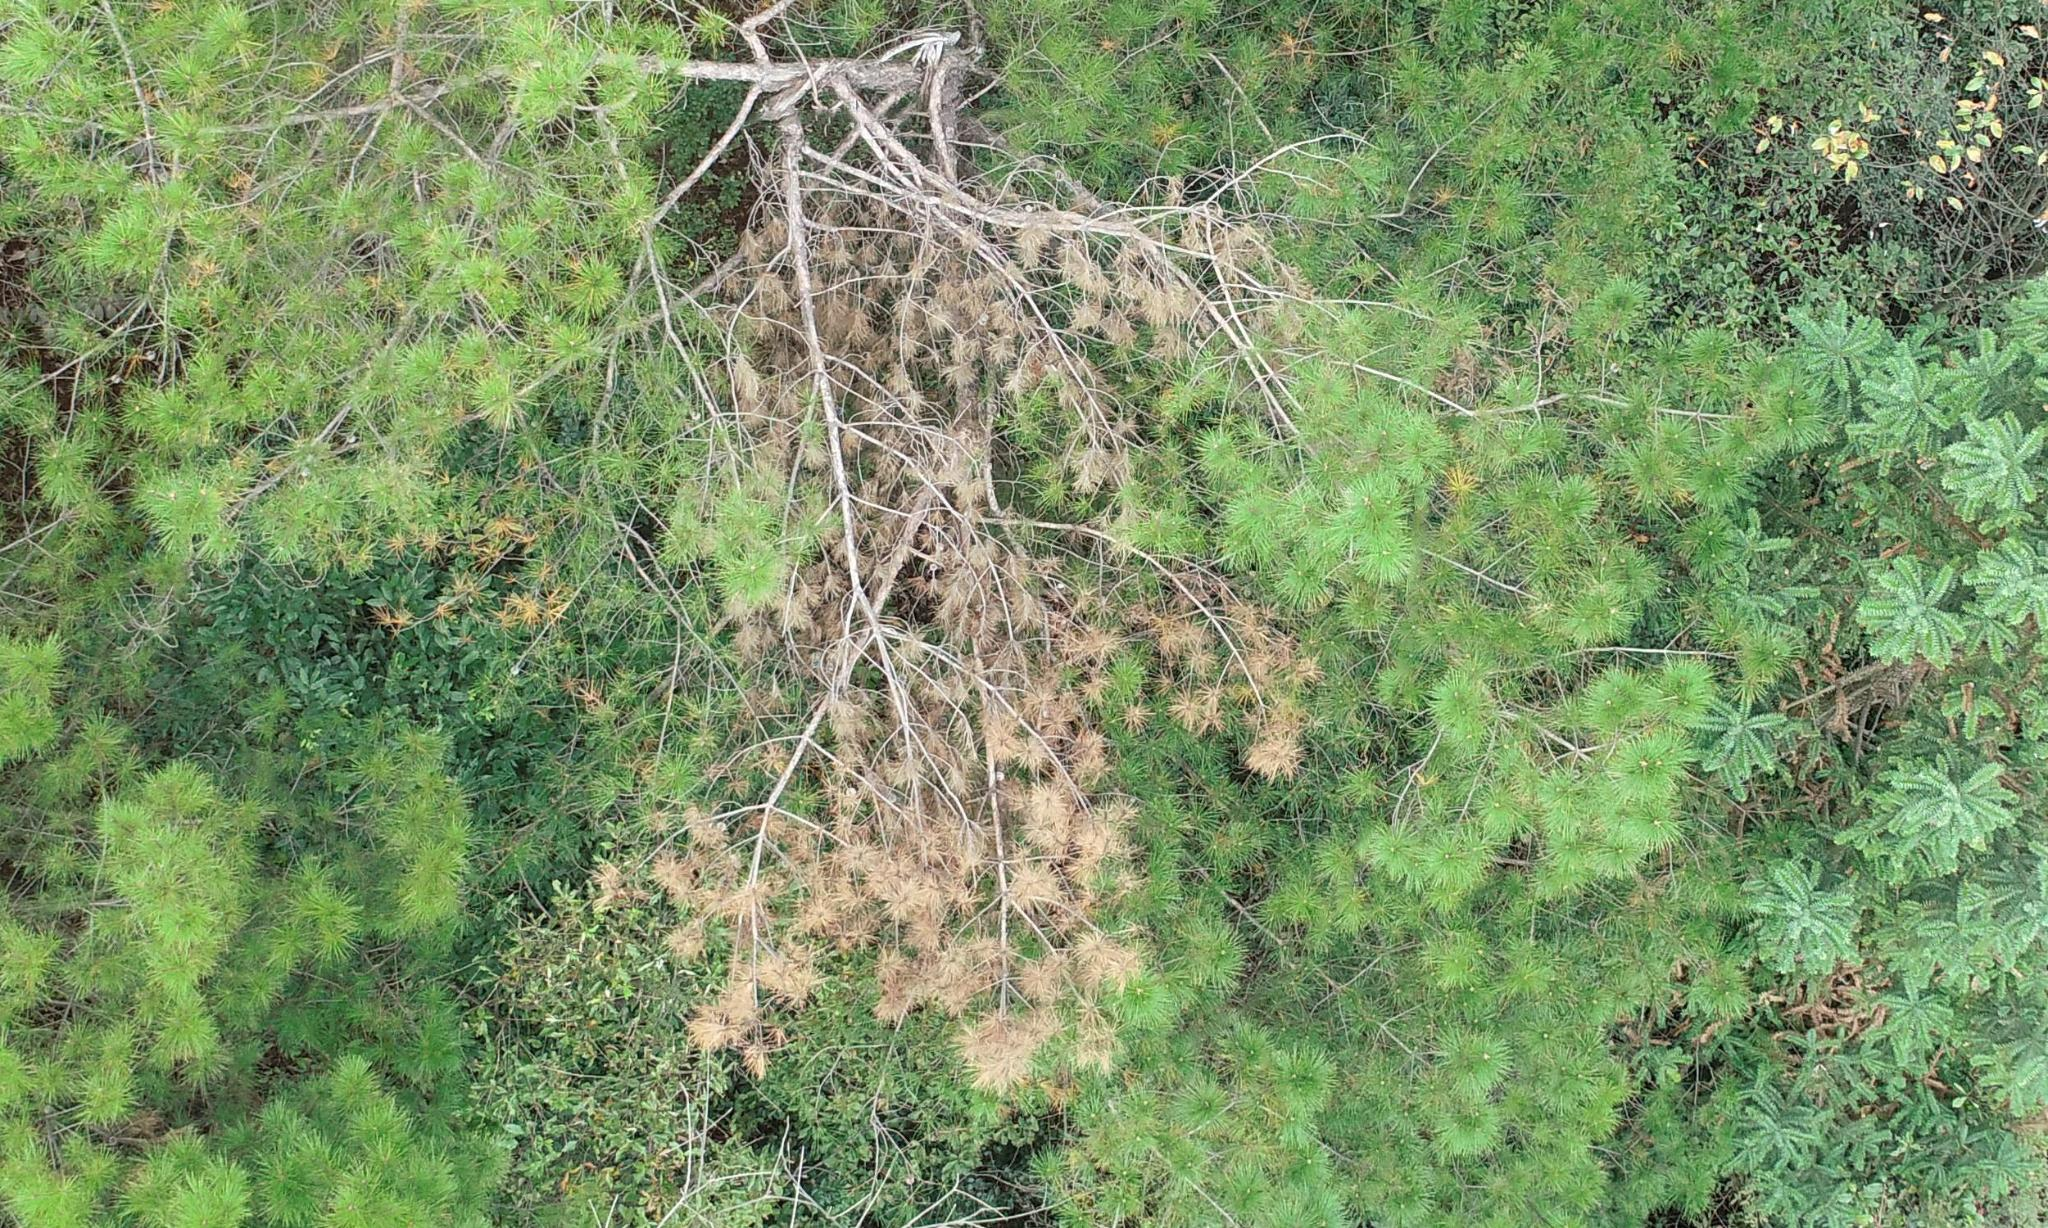heavy: (615, 34, 1307, 1092)
